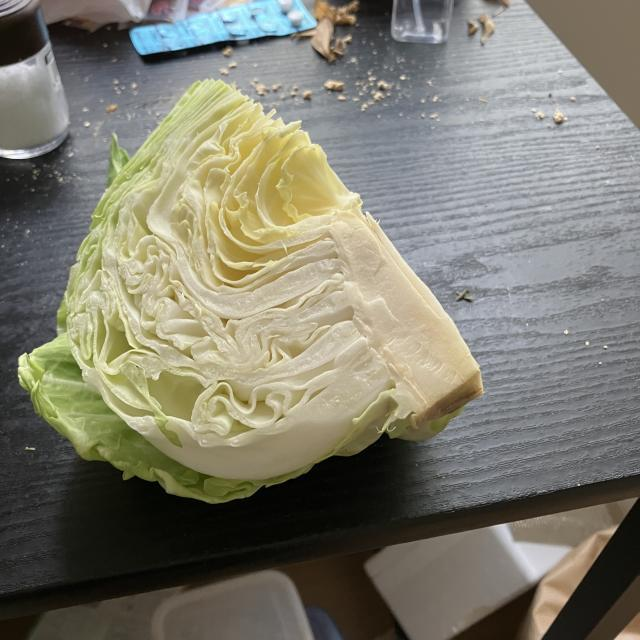cabbage: (17, 72, 490, 509)
